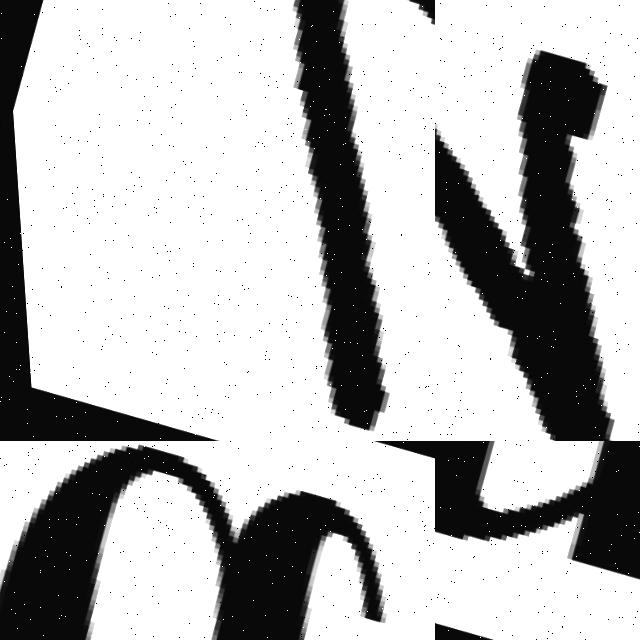A: (435, 0, 640, 441), (0, 441, 435, 640)
L: (153, 0, 435, 441)
Q: (435, 441, 640, 640)
